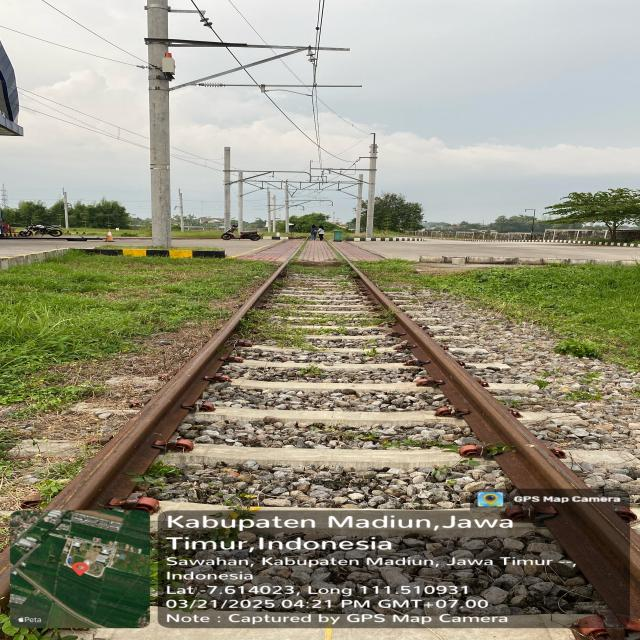rail-detection: (351, 266, 640, 616), (46, 264, 285, 510)
